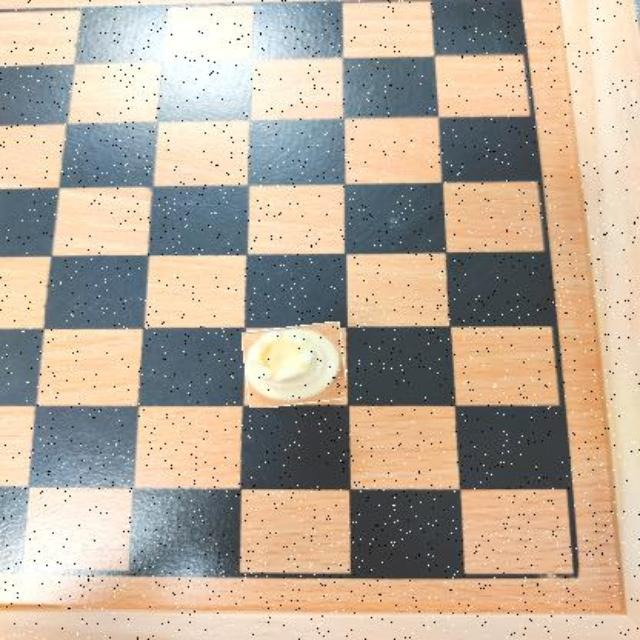white-rook: (244, 324, 346, 407)
